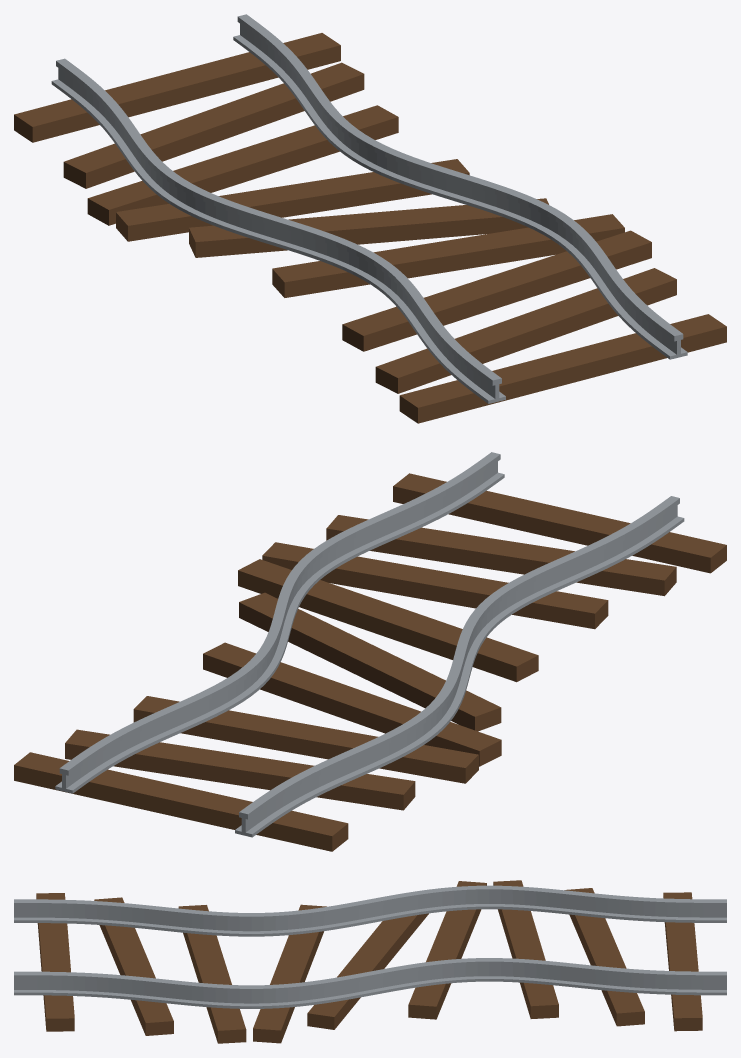
The model's file is prop_track_buckled.glb.
3 renders of one model, top to bottom at view 1: azimuth 30°, elevation 25°; view 2: azimuth 150°, elevation 25°; view 3: azimuth 270°, elevation 25°, orthographic. The views are drawn at different scales.
Parts seen in each view (by area): view 1: sleepers, rail_far, rail_near; view 2: sleepers, rail_near, rail_far; view 3: sleepers, rail_far, rail_near.
Part boxes in pixels (bbox=[...]): sleepers: bbox=[14, 33, 726, 423]; rail_far: bbox=[233, 14, 687, 359]; rail_near: bbox=[51, 58, 505, 403]; sleepers: bbox=[14, 473, 726, 851]; rail_near: bbox=[235, 496, 684, 837]; rail_far: bbox=[55, 452, 504, 793]; sleepers: bbox=[36, 880, 702, 1043]; rail_far: bbox=[14, 958, 726, 1008]; rail_near: bbox=[14, 885, 726, 936].
Bounding box in the file's own units: 3 × 0.29 × 6.
